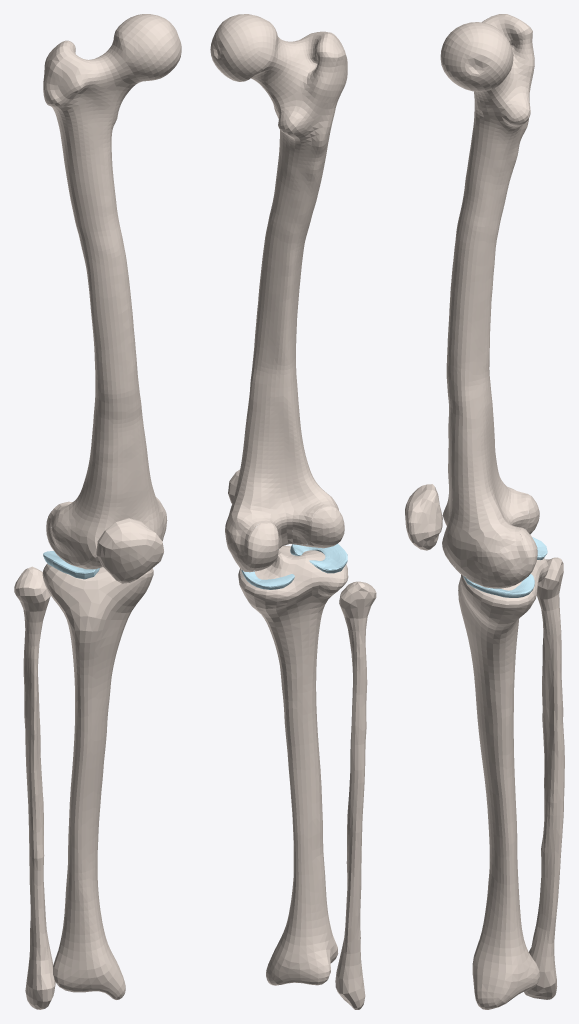
The model's file is VH_F_Knee_R_0.8.glb.
The picture shows the model from 3 angles, left to right: view 1: azimuth 30°, elevation 25°; view 2: azimuth 210°, elevation 25°; view 3: azimuth 270°, elevation 25°; orthographic projection. The views are drawn at different scales.
Parts seen in each view (by area): view 1: VH_F_femur_R, VH_F_tibia_R, VH_F_fibula_R, VH_F_patella_R, VH_F_meniscus_R; view 2: VH_F_femur_R, VH_F_tibia_R, VH_F_fibula_R, VH_F_meniscus_R, VH_F_medial_condyle_of_right_femur_inf, VH_F_lateral_condyle_of_femur_inf_R, VH_F_anterior_cruciate_enthesis_R, VH_F_posterior_cruciate_enthesis_R; view 3: VH_F_femur_R, VH_F_tibia_R, VH_F_fibula_R, VH_F_patella_R, VH_F_meniscus_R, VH_F_medial_perichondular_surface_R, VH_F_medial_condyle_of_right_femur_inf, VH_F_articular_cartilage_of_knee_R, VH_F_medial_epicondylar_enthesis_R.
Part boxes in pixels (box(x1,y1,x2,y2)): VH_F_femur_R: box(43, 14, 181, 562); VH_F_tibia_R: box(42, 563, 153, 999); VH_F_fibula_R: box(14, 566, 55, 1009); VH_F_patella_R: box(96, 518, 163, 583); VH_F_meniscus_R: box(43, 551, 99, 579); VH_F_femur_R: box(210, 14, 347, 567); VH_F_tibia_R: box(238, 545, 348, 985); VH_F_fibula_R: box(335, 581, 376, 1009); VH_F_meniscus_R: box(241, 543, 347, 589); VH_F_medial_condyle_of_right_femur_inf: box(245, 524, 279, 570); VH_F_lateral_condyle_of_femur_inf_R: box(310, 506, 344, 547); VH_F_anterior_cruciate_enthesis_R: box(292, 515, 311, 544); VH_F_posterior_cruciate_enthesis_R: box(275, 515, 293, 547); VH_F_femur_R: box(440, 14, 534, 585); VH_F_tibia_R: box(458, 558, 548, 1009); VH_F_fibula_R: box(524, 557, 564, 999); VH_F_patella_R: box(405, 484, 442, 550); VH_F_meniscus_R: box(463, 537, 547, 597); VH_F_medial_perichondular_surface_R: box(473, 551, 509, 576); VH_F_medial_condyle_of_right_femur_inf: box(519, 528, 537, 581); VH_F_articular_cartilage_of_knee_R: box(442, 493, 529, 587); VH_F_medial_epicondylar_enthesis_R: box(476, 542, 516, 569).
Size of the model in its own units: 0.1016 by 0.7718 by 0.1105.
